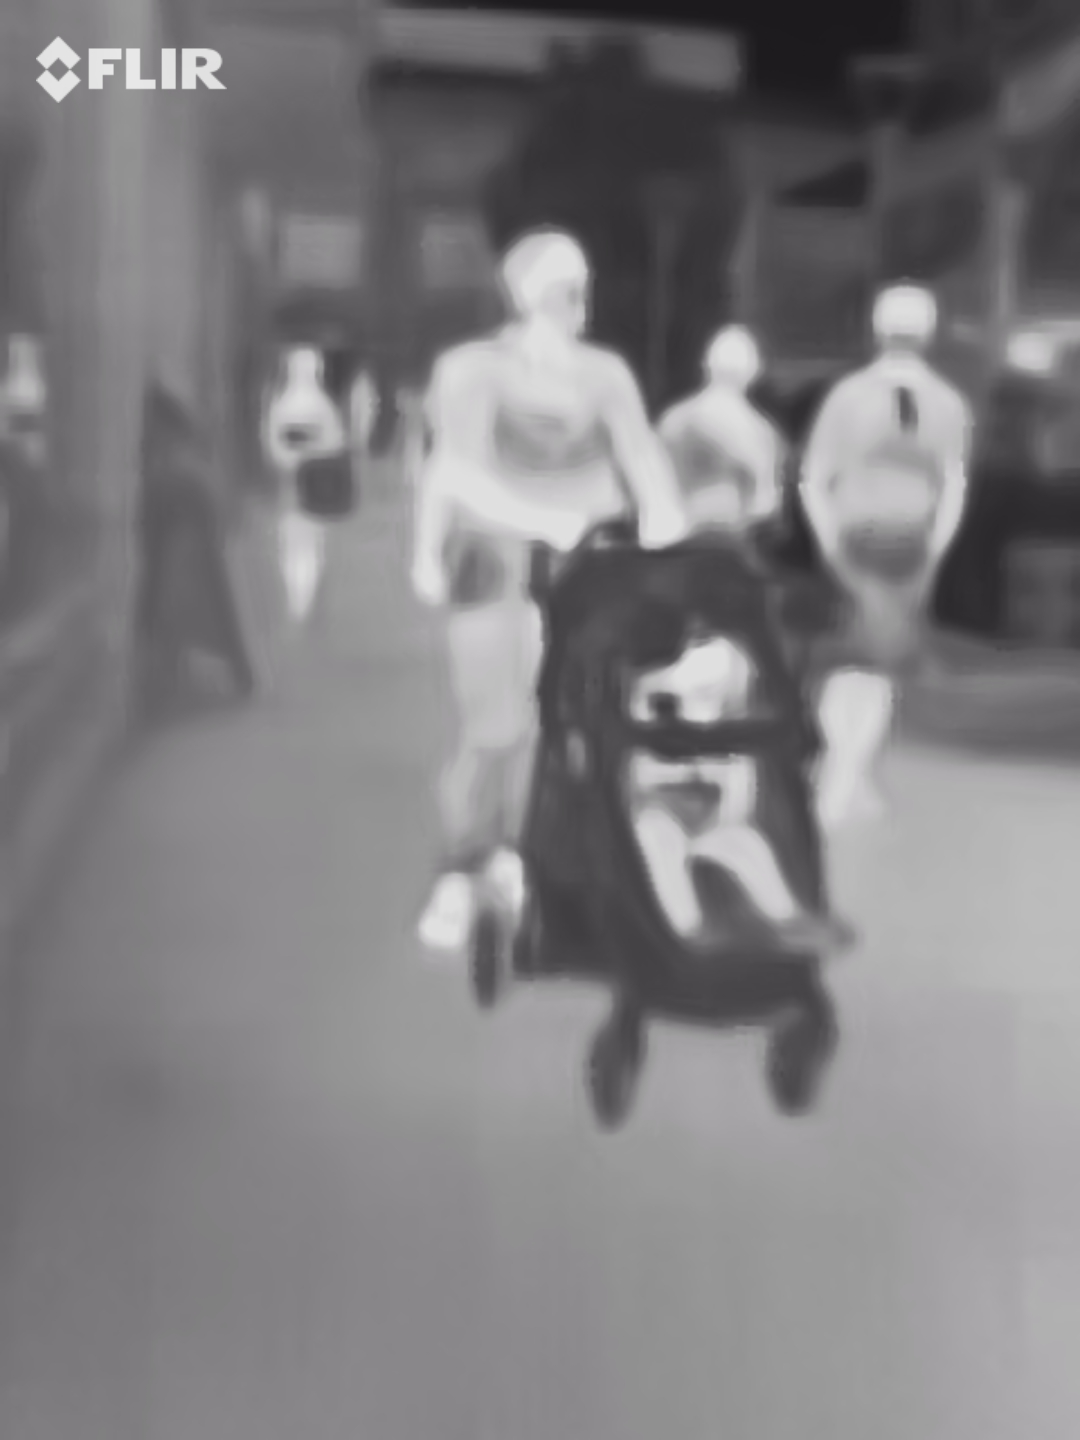head: (501, 231, 591, 344)
